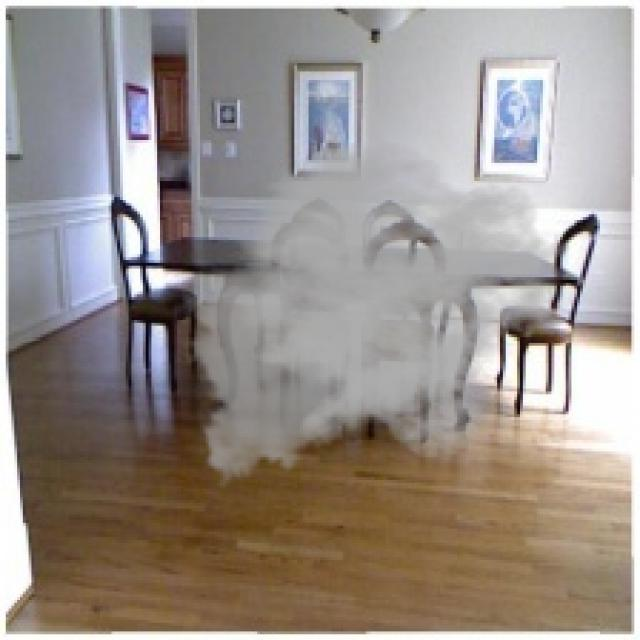smoke: (180, 140, 571, 494)
